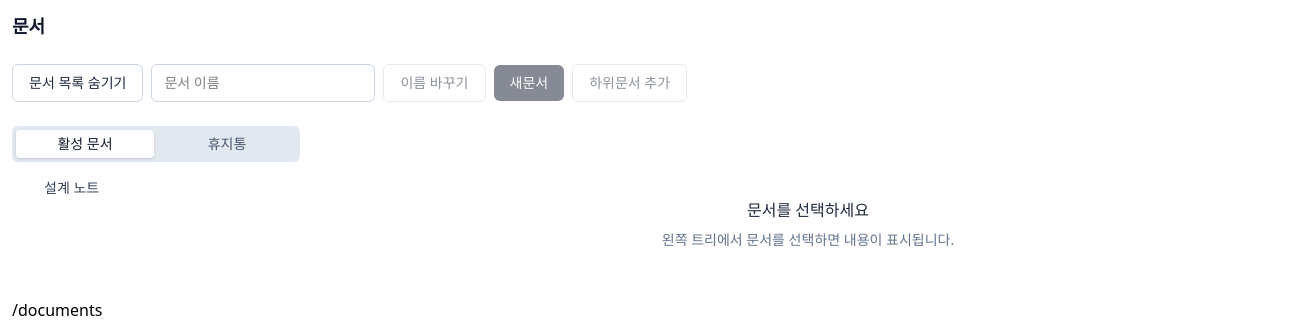
Test: DocumentWorkspacePage 조립 (트리 + 브레드크럼 + 뷰어 + 툴바) › 트리 노드를 선택하면 상세 뷰어가 렌더된다 (Req 7.1)
The width and height of the screenshot is (1304, 333).
What coordinates should you click on to do the following:
click the button "설계 노트"
I would click on:
 (168, 188)
Its box is x1=44 y1=178 x2=292 y2=198.
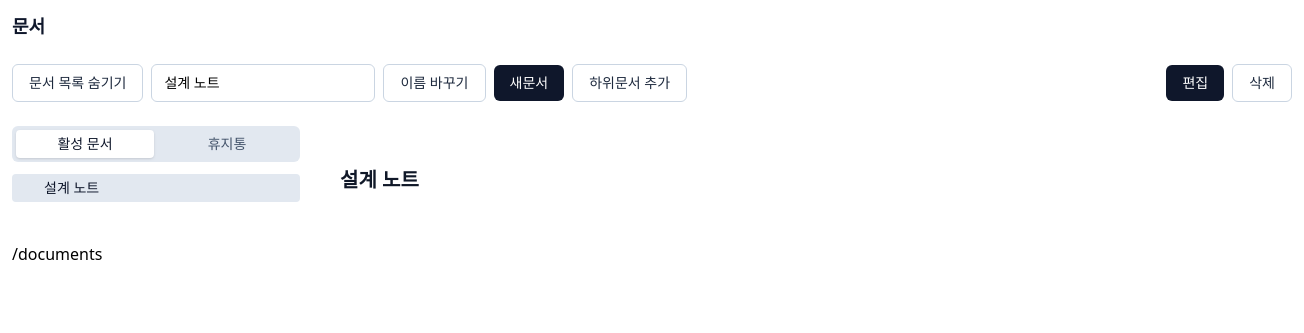
Expected: the text "문서를 선택하세요" is gone
